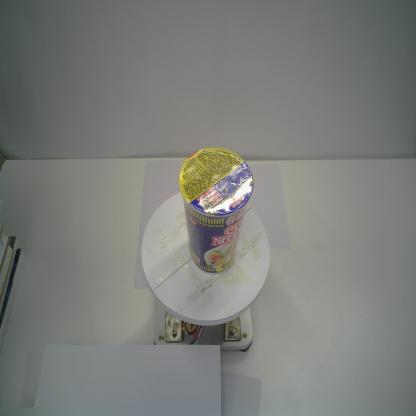Instant Noodles: (178, 146, 254, 274)
